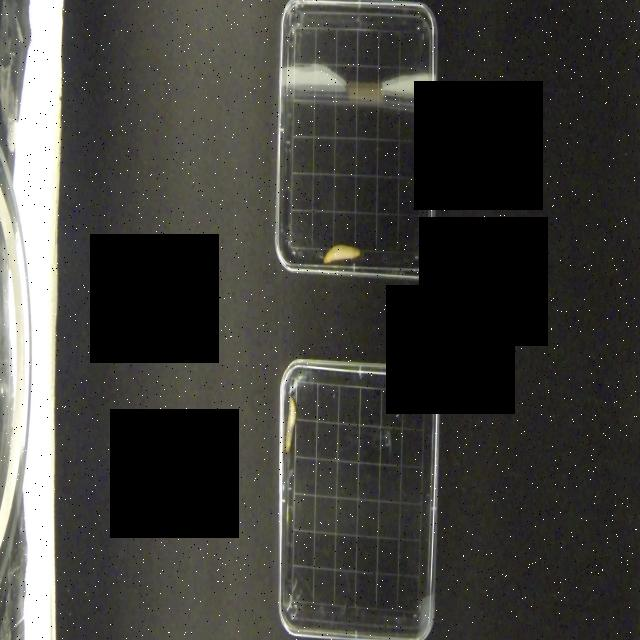larva: (322, 243, 360, 265), (285, 400, 299, 452)
